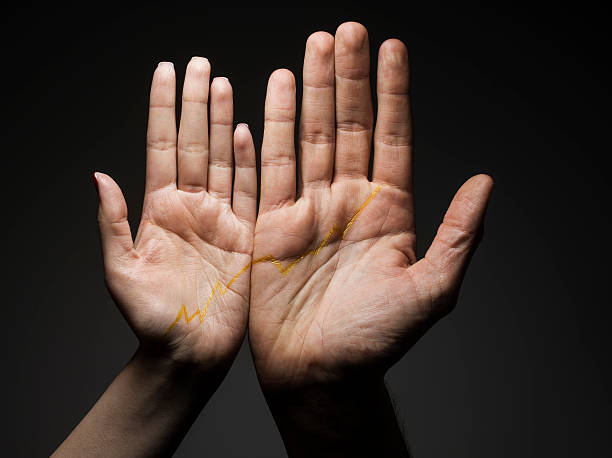non-diseased: (93, 8, 479, 346)
